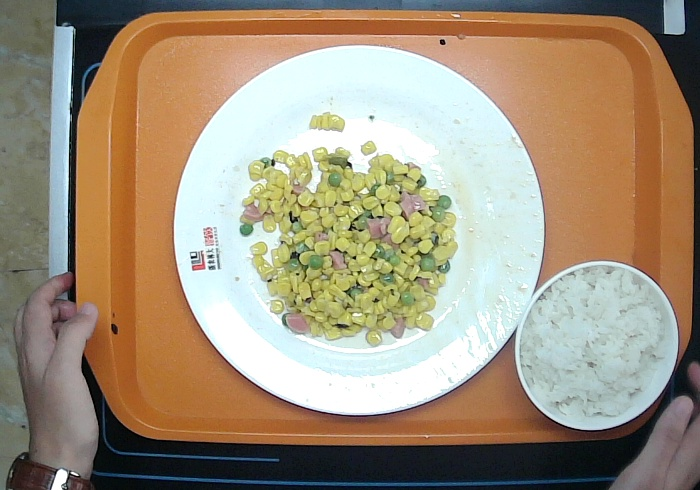ZNLD-Da_Yuan_Pan: (171, 43, 546, 418)
ZNLD-Fan_Wan: (511, 258, 681, 435)
